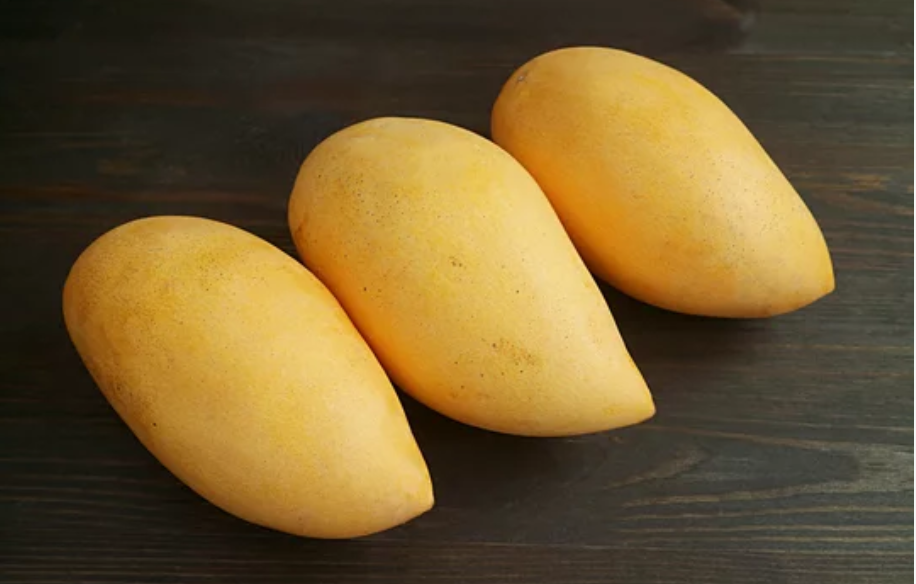mango: (57, 214, 434, 542), (292, 116, 658, 441), (489, 45, 841, 320)
